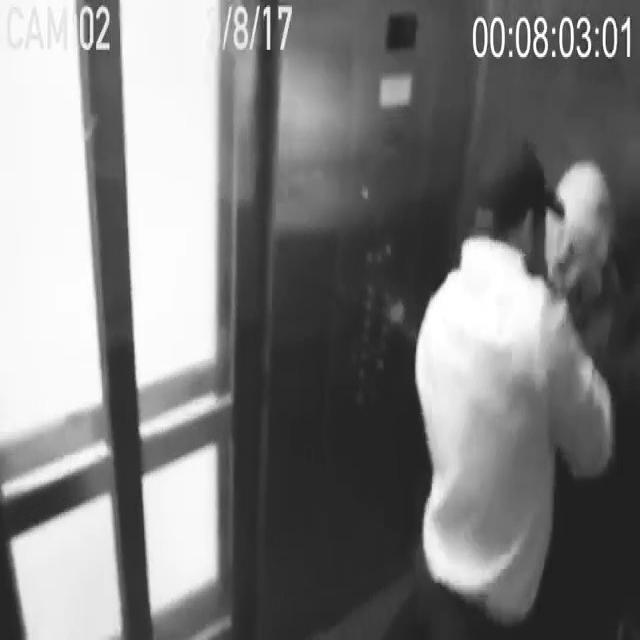fight: (414, 129, 639, 640)
